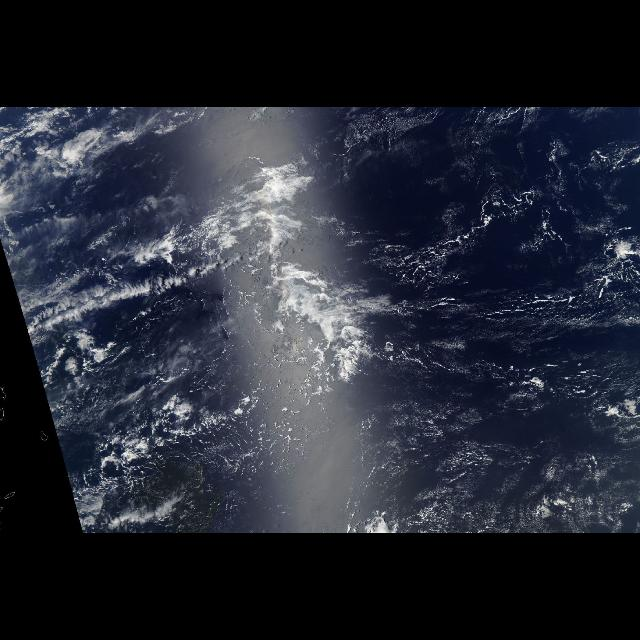Sugar: (319, 108, 639, 528)
